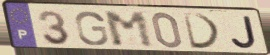0: (150, 11, 184, 50)
3: (36, 9, 72, 47)
D: (181, 12, 224, 51)
G: (73, 10, 110, 47)
J: (229, 15, 259, 50)
M: (101, 11, 157, 50)
